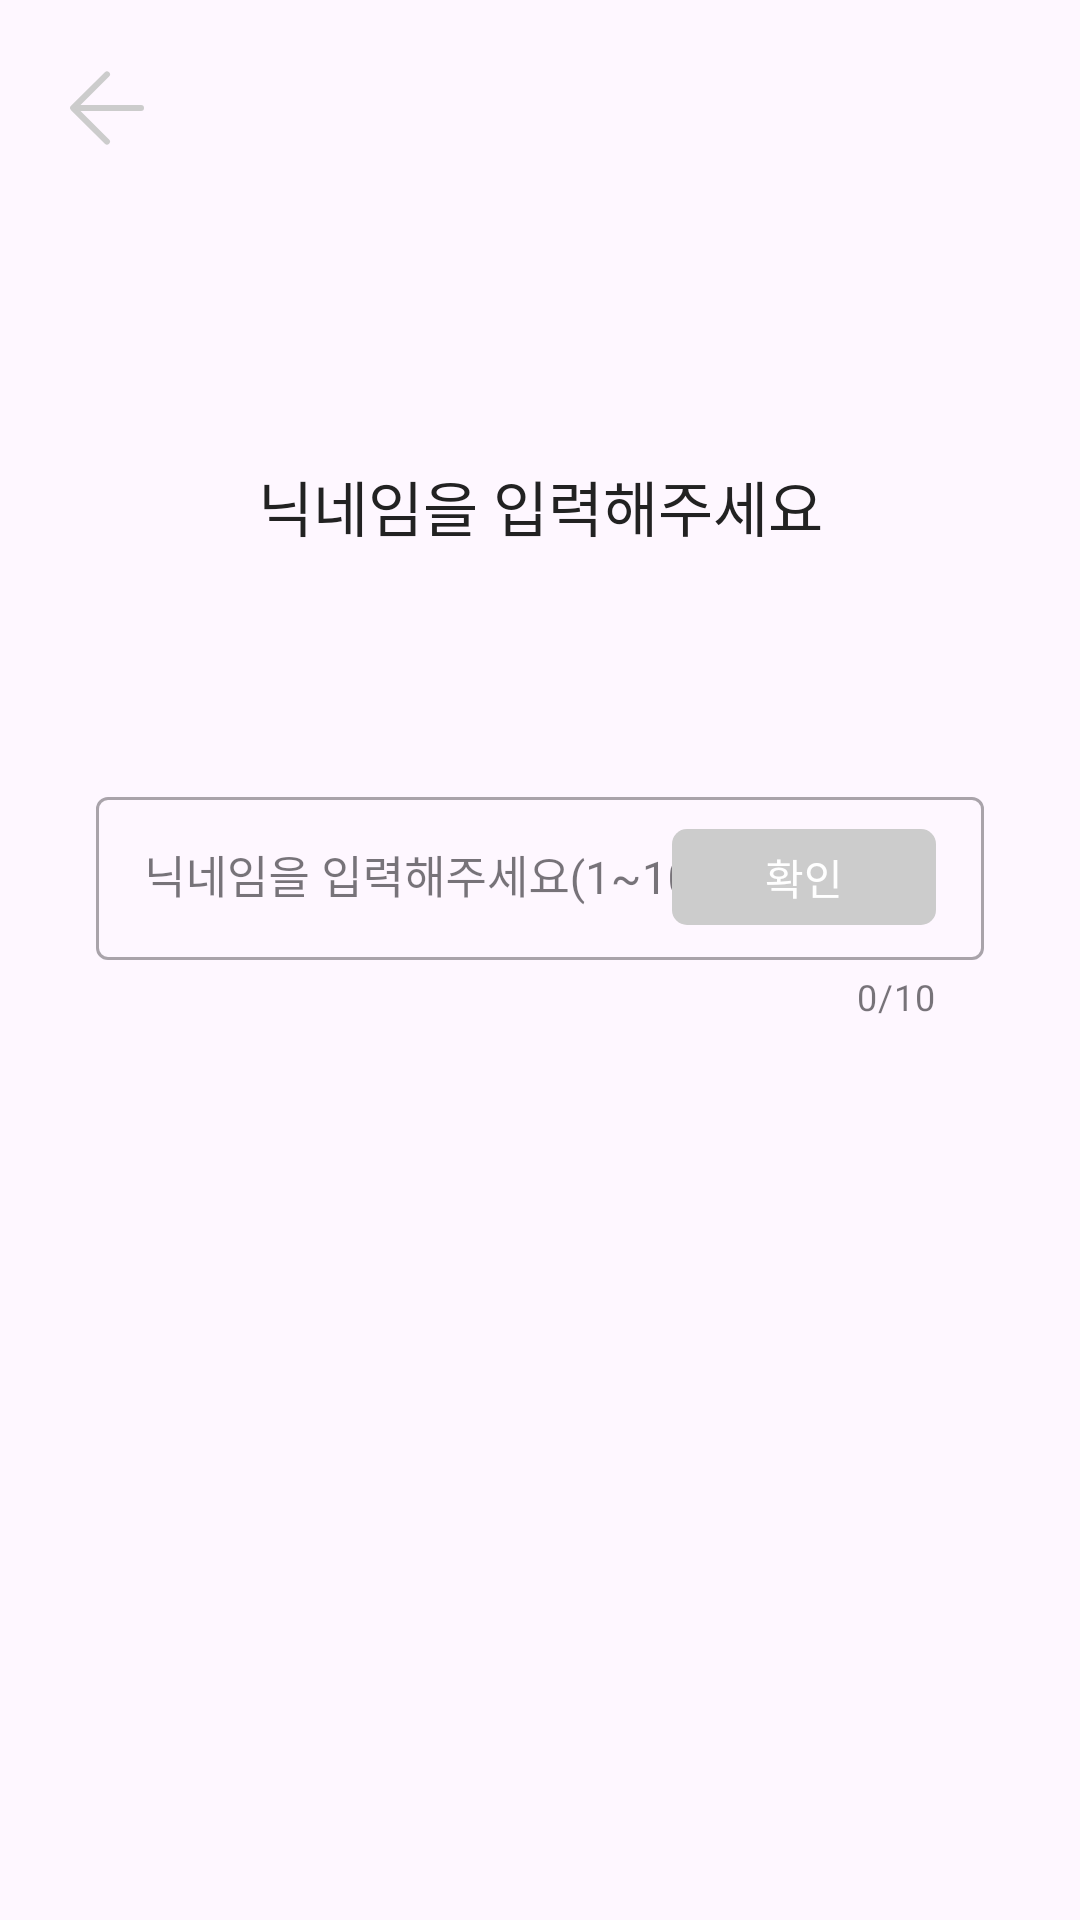

Named icons in this screenshot (1080×1920) and their centers, (x,y):
navigation: (107,108)
